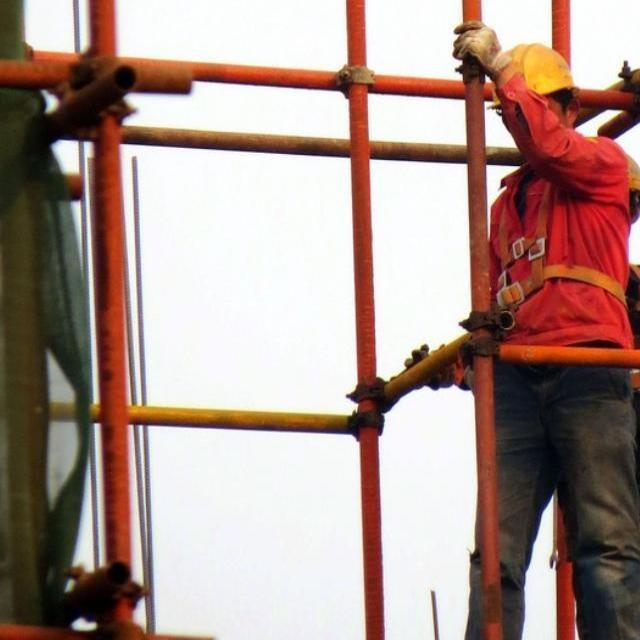Arnes_seguridad: (491, 155, 635, 321)
